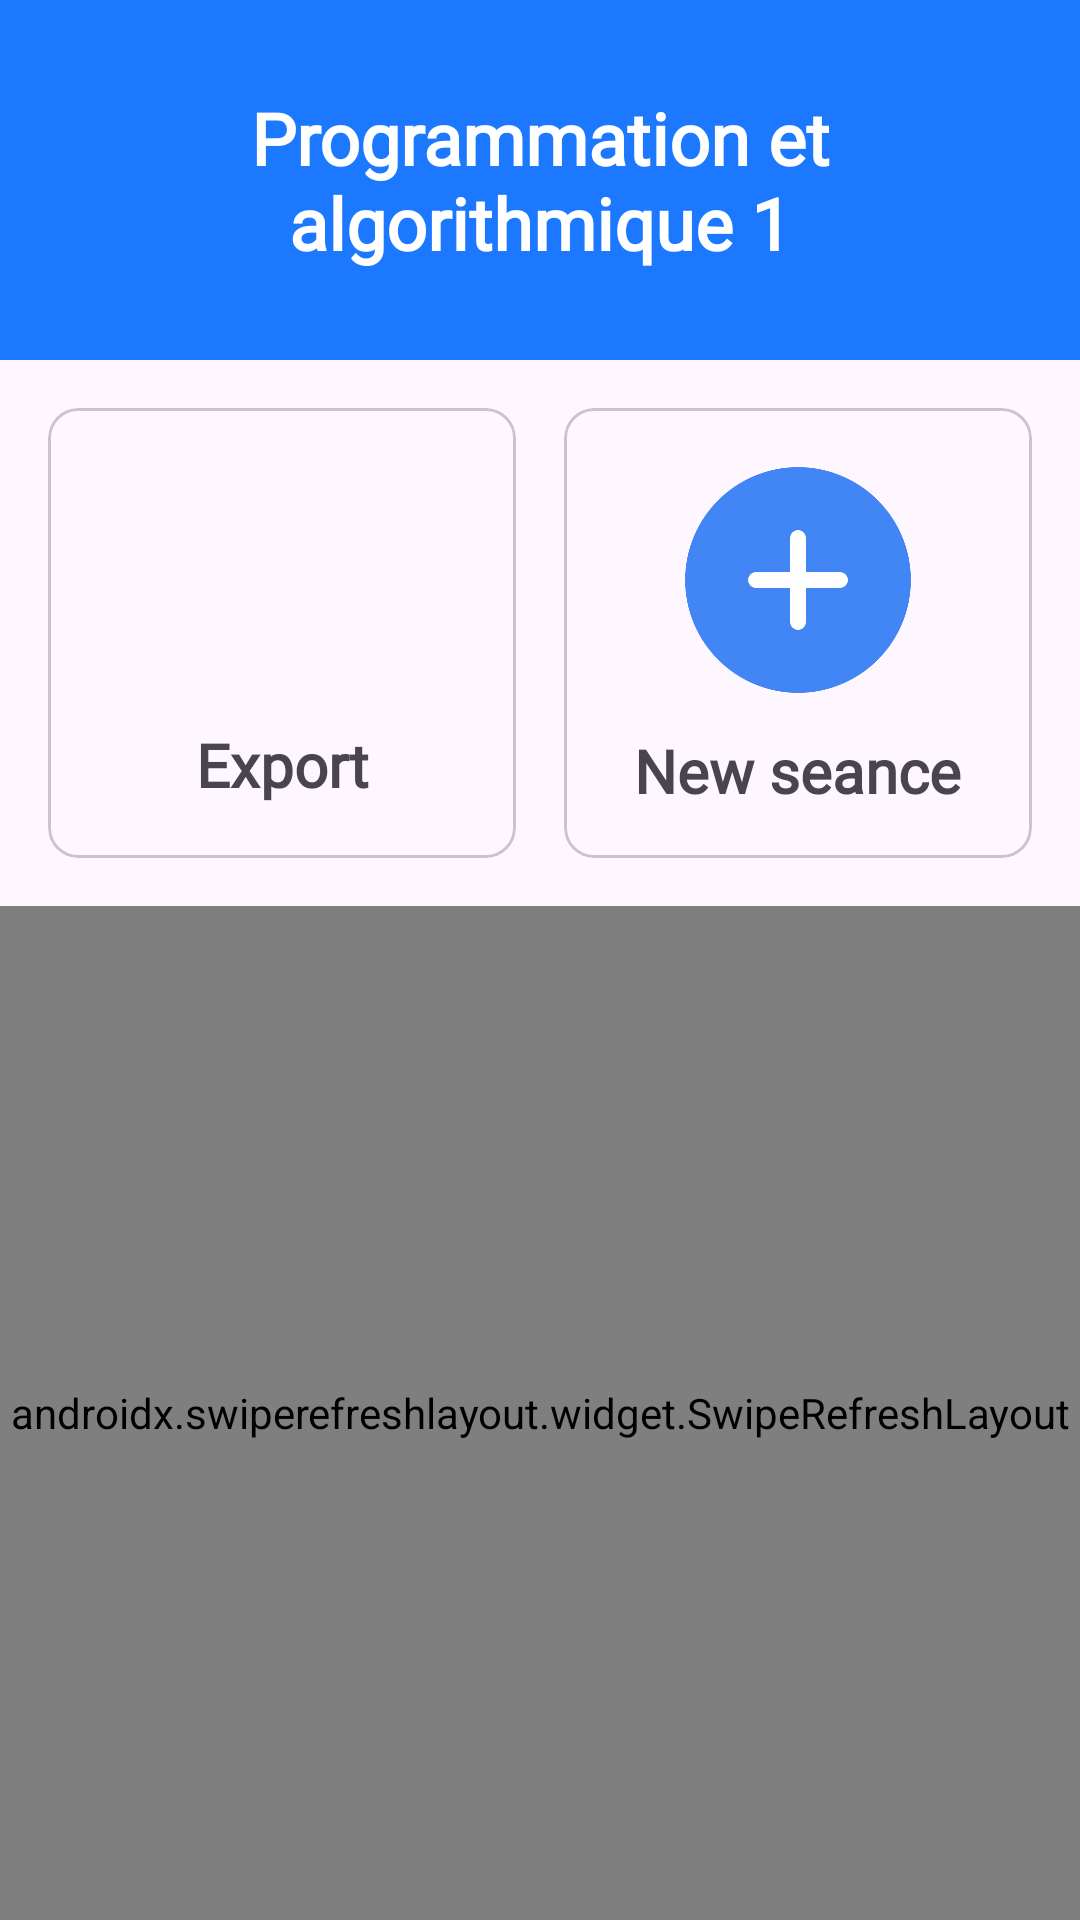

Icon bounding boxes for this 1080*1920 phone screenshot, format (x1, y1, x2, y2):
add: (685, 467, 911, 693)
